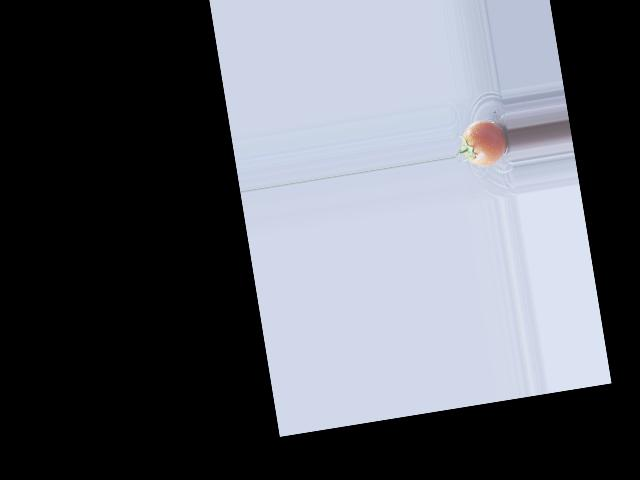tomato: (459, 117, 509, 169)
